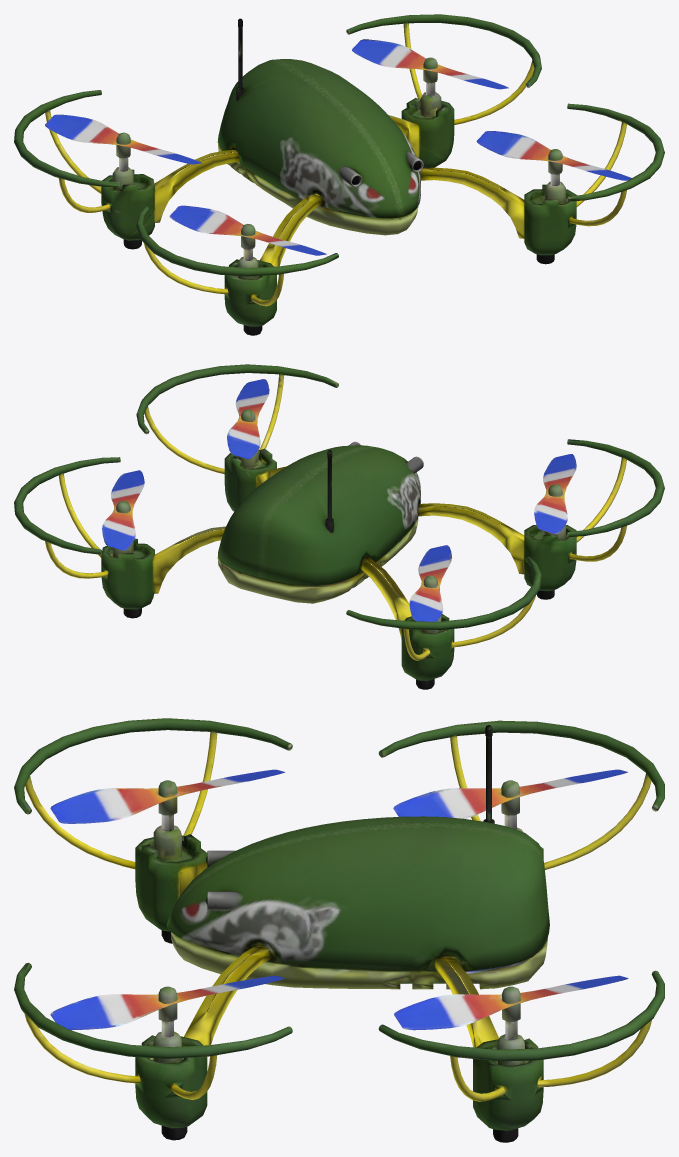
File: Drone.glb
3 renders of one model, top to bottom at view 1: azimuth 30°, elevation 25°; view 2: azimuth 150°, elevation 25°; view 3: azimuth 270°, elevation 25°, orthographic. The views are drawn at different scales.
Parts seen in each view (by area): view 1: Mesh_0; view 2: Mesh_0; view 3: Mesh_0.
Part boxes in pixels (x1,y1,x2,y2): Mesh_0: [14, 14, 664, 335]; Mesh_0: [14, 364, 664, 689]; Mesh_0: [14, 718, 664, 1142].
Size of the model in its own units: 2 by 0.7985 by 1.65.
Materials: 1 (1 with a texture image).
